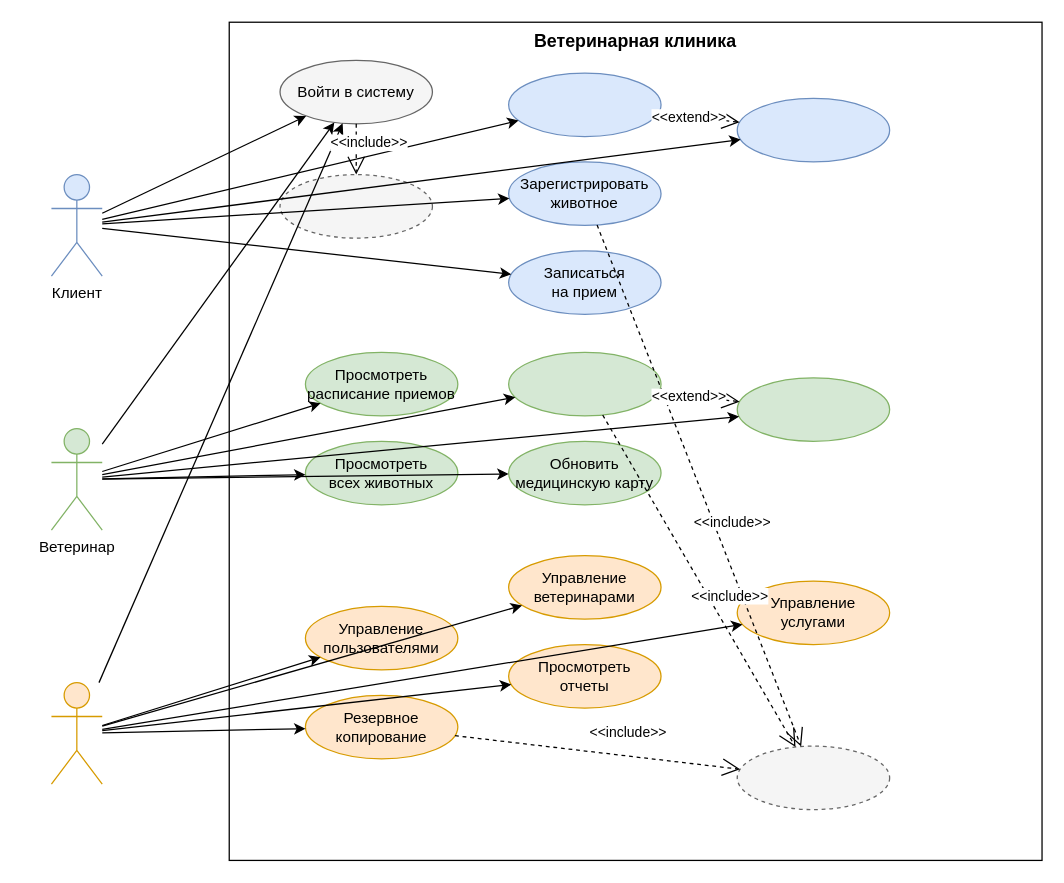
Image size: 1064x883. Some labels were removed from this diagram. The shapes that lost their labels are listed below. From the top down, each one's box as (x1, y1, x2, y2) in pixels, then its label:
(507, 72, 661, 137): Просмотреть своих животных
(736, 97, 890, 162): Просмотреть историю приемов
(279, 173, 432, 238): Проверить права доступа
(507, 351, 661, 416): Создать диагноз
(736, 377, 890, 441): Назначить лечение
(50, 681, 102, 784): Администратор
(736, 745, 890, 810): Сохранить данные
